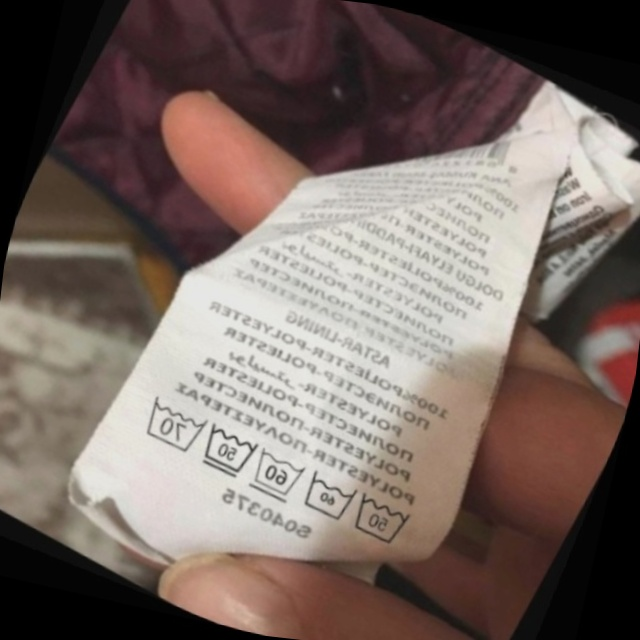50C: (335, 476, 427, 561), (184, 410, 269, 491)
60C: (235, 434, 316, 513), (287, 458, 368, 534)
70C: (125, 383, 217, 464)
